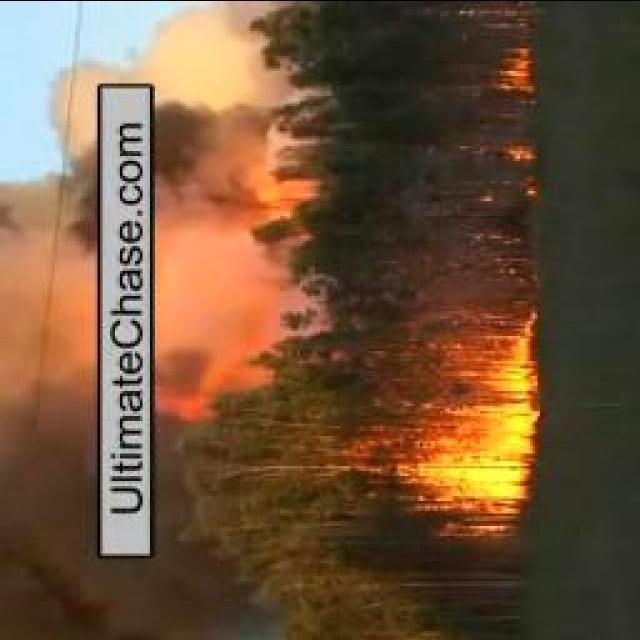Fire: (440, 328, 530, 518), (260, 160, 310, 218), (170, 379, 239, 418), (498, 44, 534, 100), (509, 140, 536, 202)
